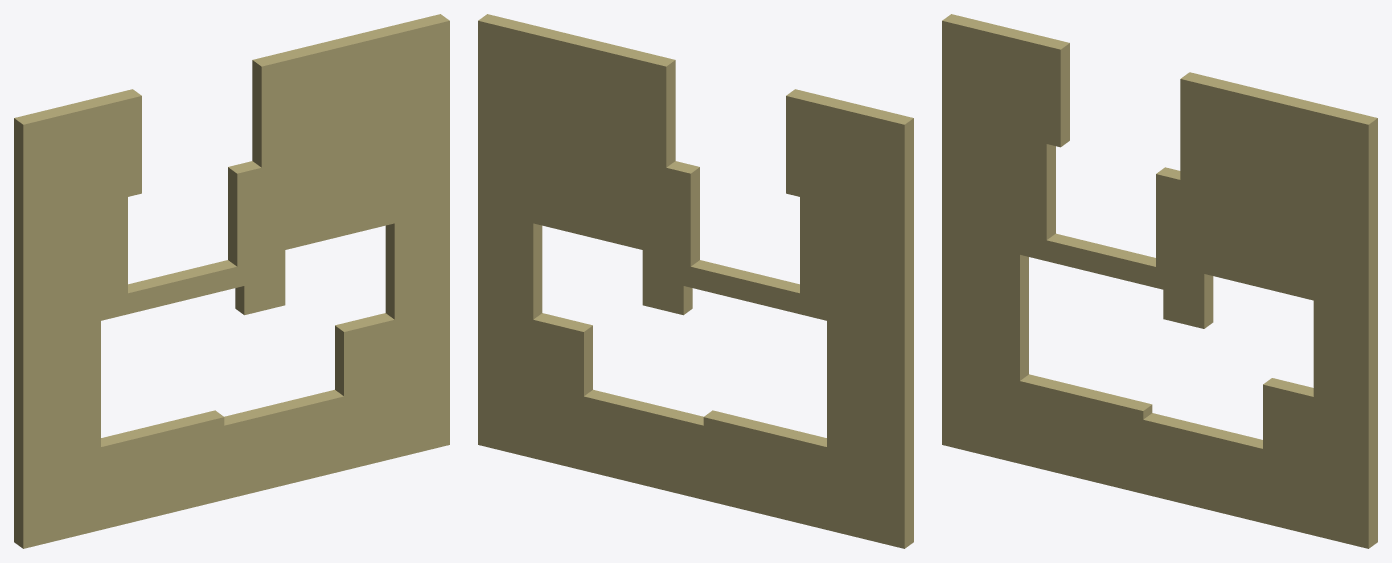
Rendered from ruin12.fbx.
The picture shows the model from 3 angles, left to right: view 1: azimuth 30°, elevation 25°; view 2: azimuth 150°, elevation 25°; view 3: azimuth 330°, elevation 25°; orthographic projection.
Visible parts, largest first — view 1: Boole_10; view 2: Boole_10; view 3: Boole_10.
Part boxes in pixels (left/top/right/bottom): Boole_10: left=14, top=14, right=449, bottom=548; Boole_10: left=478, top=14, right=913, bottom=548; Boole_10: left=942, top=14, right=1377, bottom=548.
Bounding box in the file's own units: 344 × 327 × 12.88.
